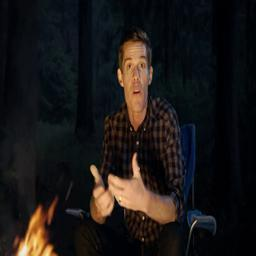fire: (16, 199, 60, 256)
